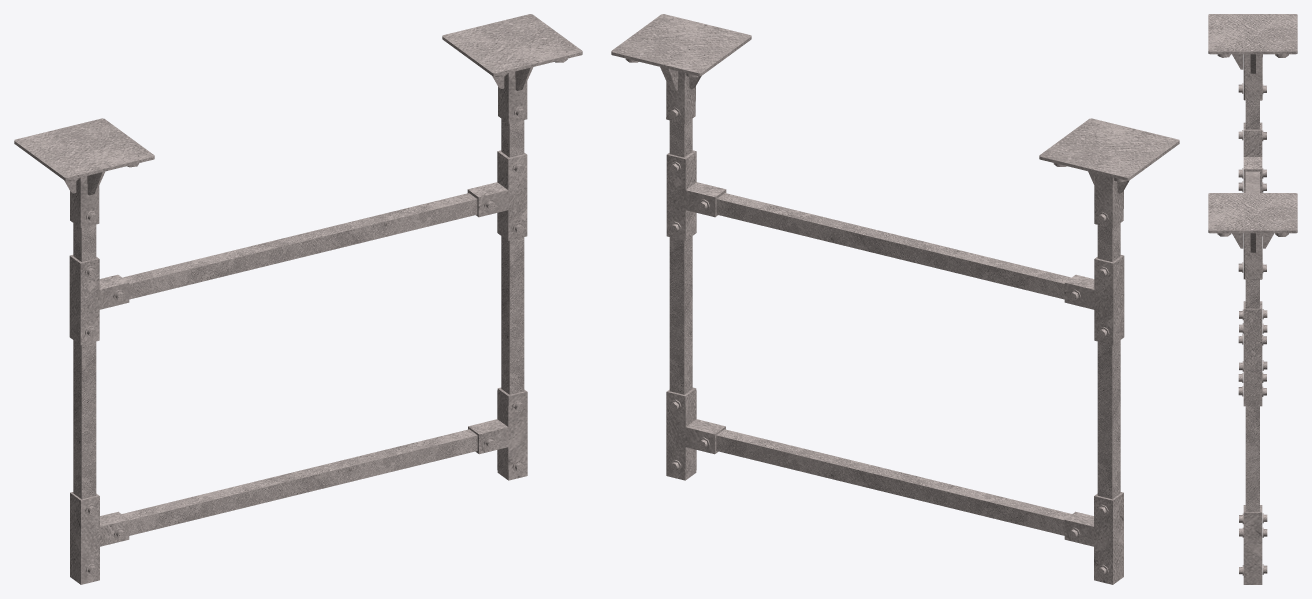
The model's file is SM_Square_Ducting_02n.glb.
3 views of the same model, side by side, from view 1: azimuth 30°, elevation 25°; view 2: azimuth 150°, elevation 25°; view 3: azimuth 270°, elevation 25° (orthographic). The views are drawn at different scales.
Parts seen in each view (by area): view 1: SM_Square_Ducting_02n; view 2: SM_Square_Ducting_02n; view 3: SM_Square_Ducting_02n.
Boxes of the visible parts, <box> form: SM_Square_Ducting_02n: <box>14,14,582,584</box>; SM_Square_Ducting_02n: <box>611,14,1179,584</box>; SM_Square_Ducting_02n: <box>1208,14,1297,584</box>.
Size of the model in its own units: 1 by 0.7977 by 0.1751.
1 material, 1 textured.
